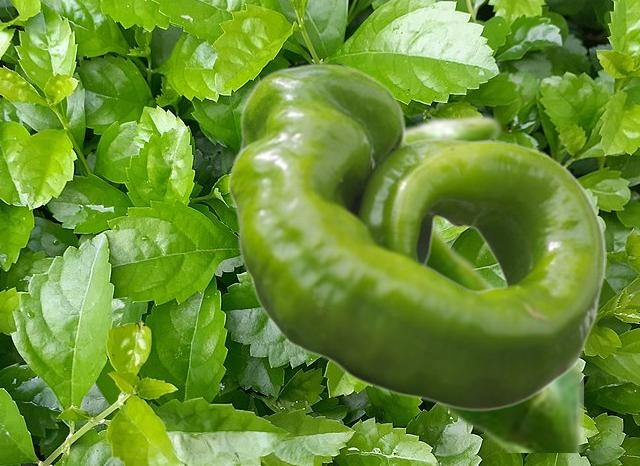green_chili: (228, 63, 605, 410), (406, 113, 582, 451)
